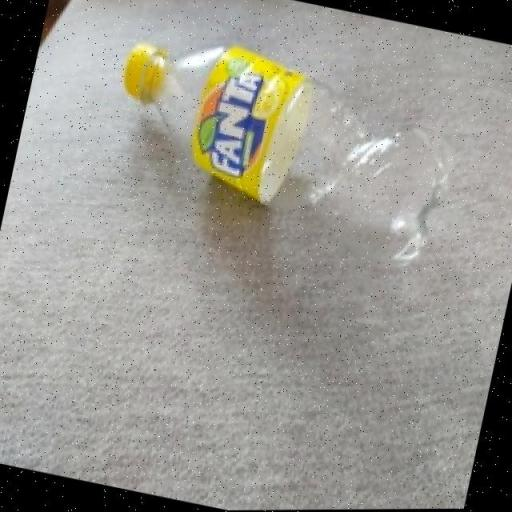plastic: (94, 17, 474, 279)
